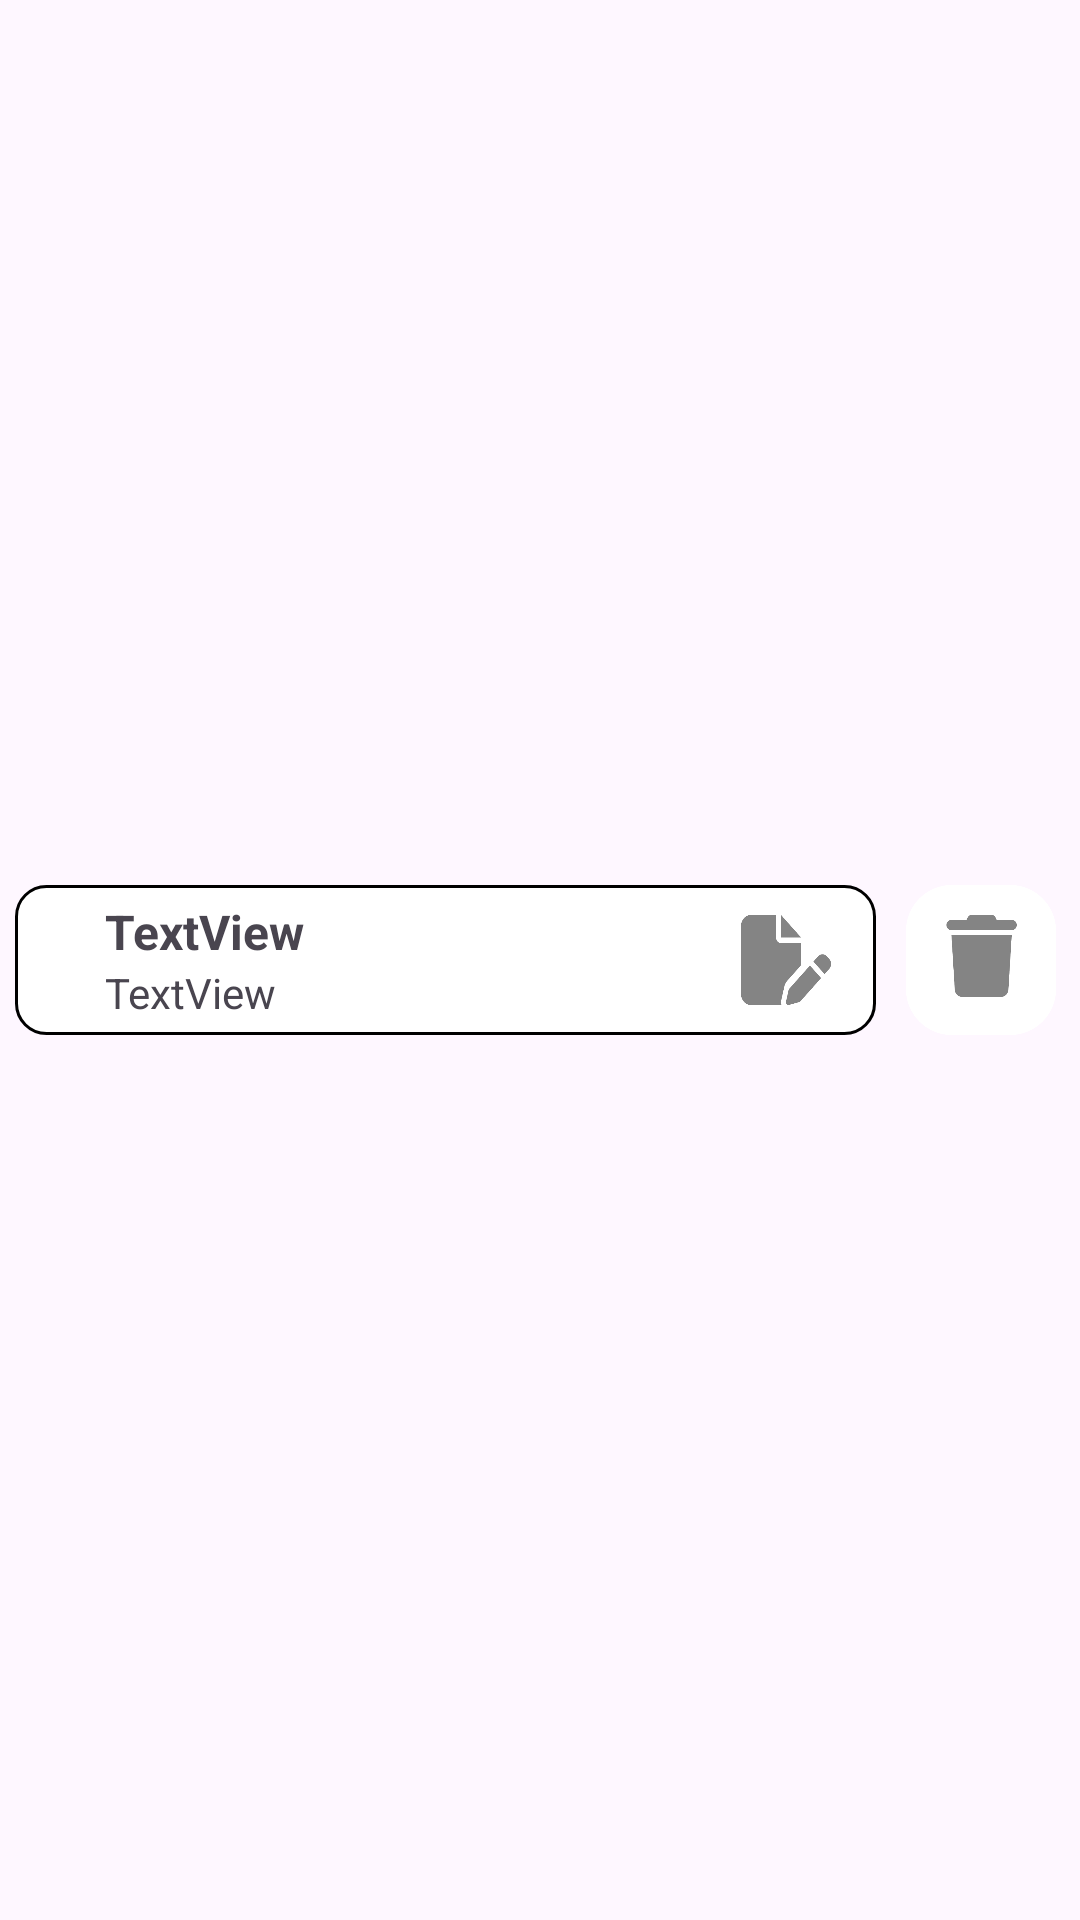

Icons on this 1080x1920 Android screen, each with its box as BBox(x1, y1, x2, y2):
trash: BBox(946, 915, 1017, 997)
